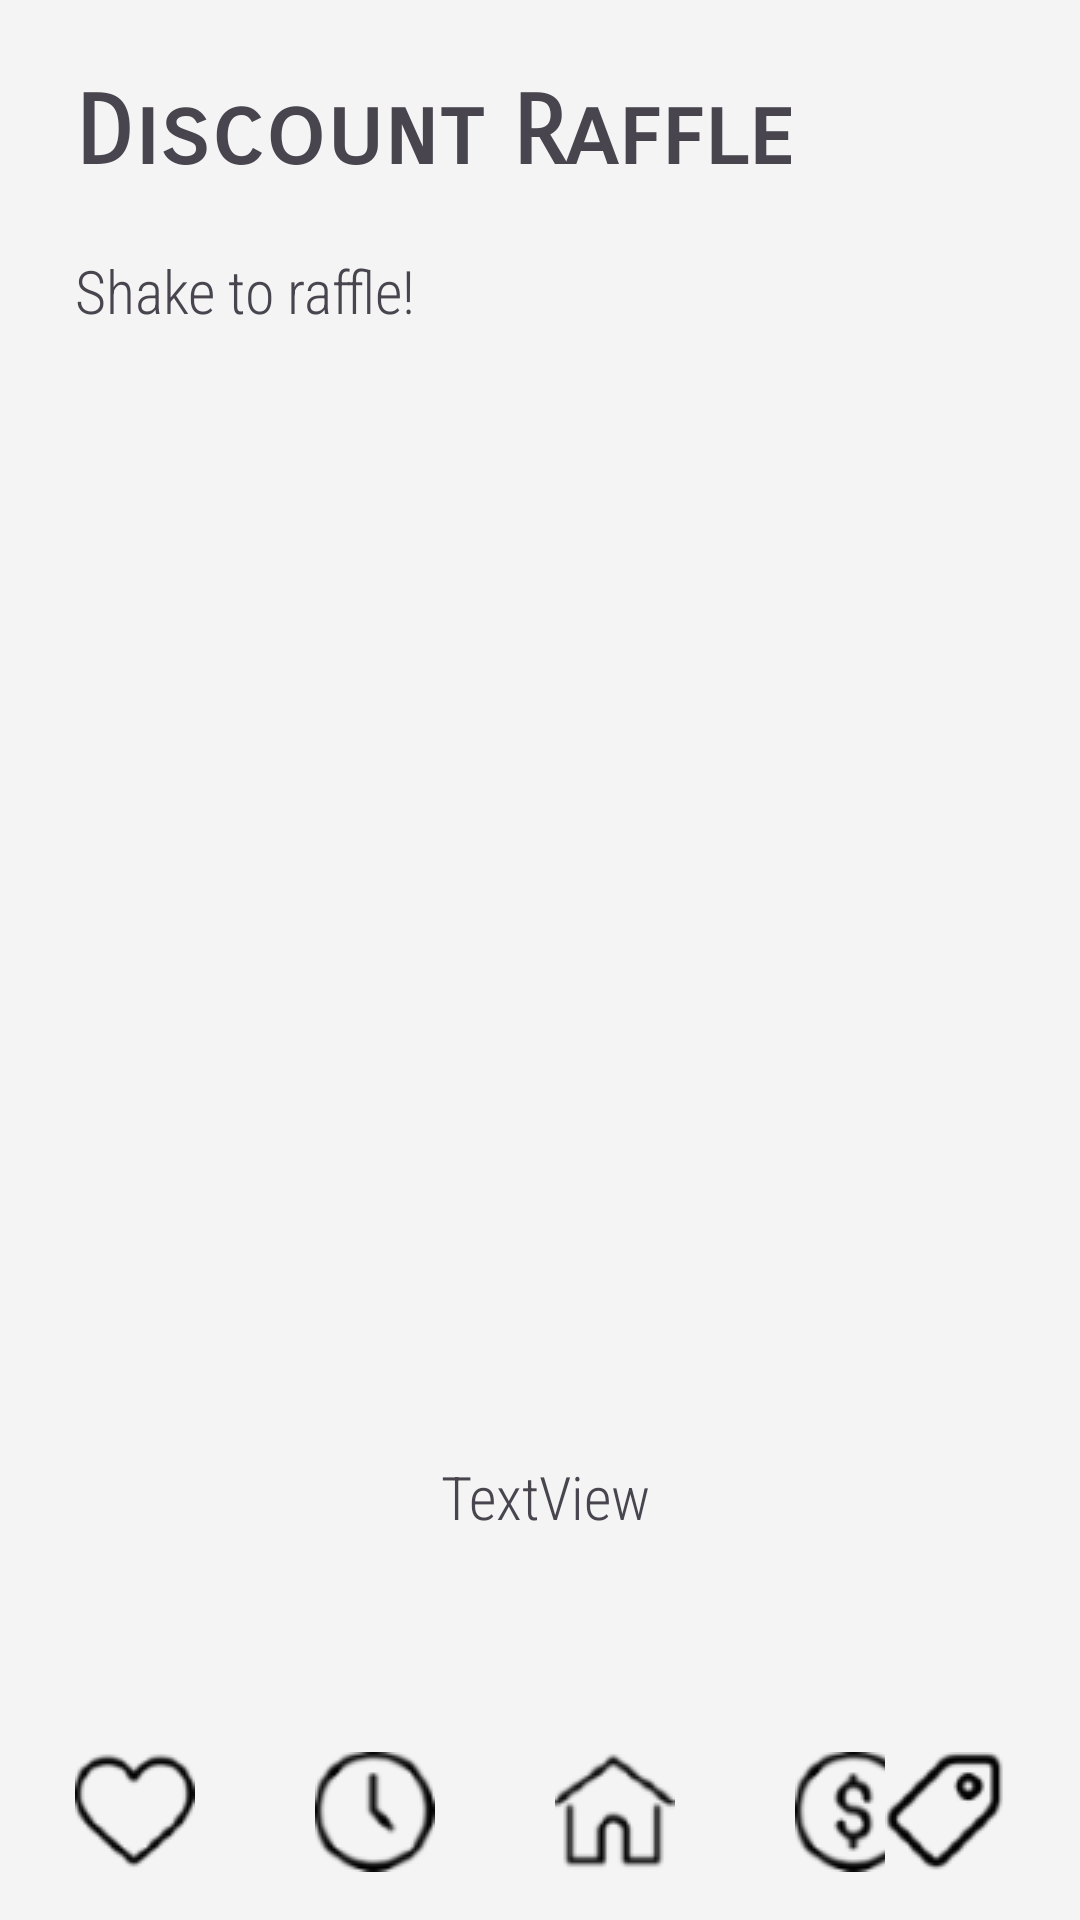

Point at icon controls on the screen. Image size 1080 × 1920, points as point (x, y).
clock: point (375, 1812)
heart hollow: point (135, 1810)
home: point (615, 1810)
sale: point (944, 1810)
